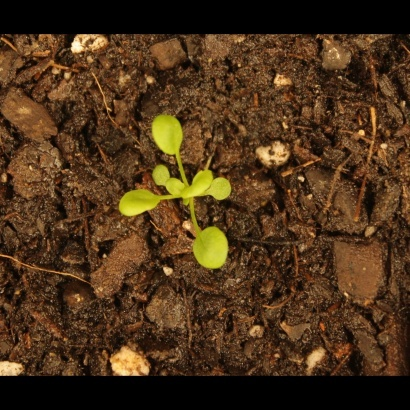leaf: (185, 228, 236, 273), (147, 113, 193, 158), (115, 186, 165, 223), (182, 169, 215, 202), (211, 176, 235, 204), (147, 165, 173, 188), (164, 178, 187, 201)
